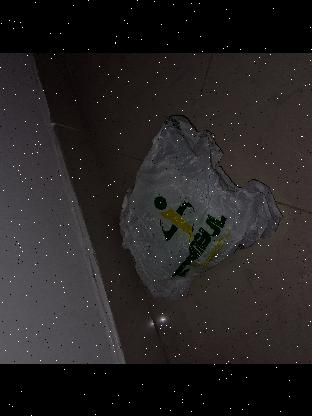Others: (120, 107, 278, 299)
